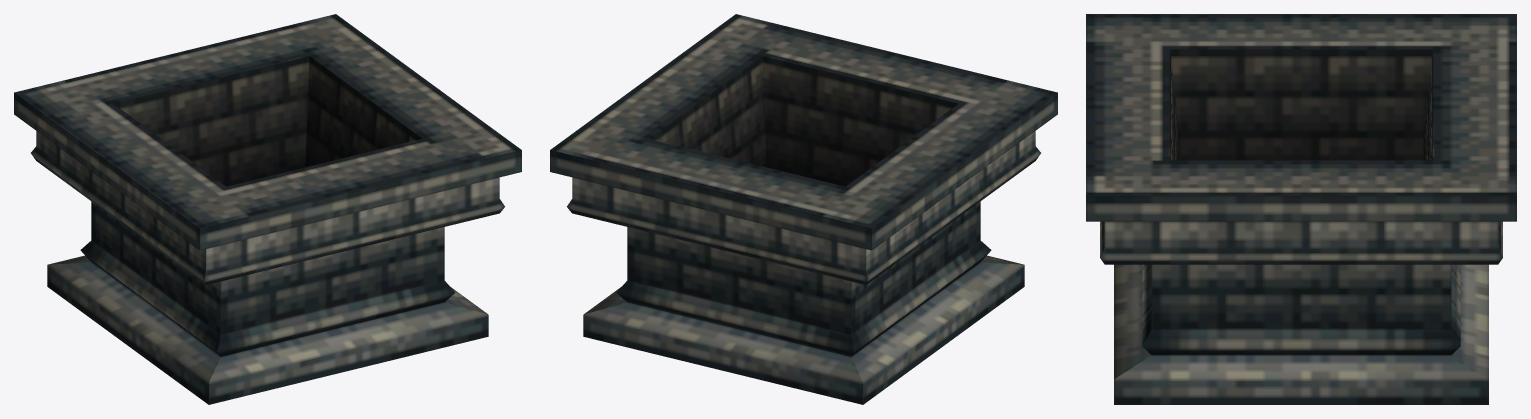
Rendered from EnvMdrMD_Daiseidou_B_Chimney_A.FBX.
3 renders of one model, left to right at view 1: azimuth 30°, elevation 25°; view 2: azimuth 150°, elevation 25°; view 3: azimuth 270°, elevation 25°, orthographic. The views are drawn at different scales.
Parts seen in each view (by area): view 1: EnvMdrMD_Daiseidou_B_Chimney_A; view 2: EnvMdrMD_Daiseidou_B_Chimney_A; view 3: EnvMdrMD_Daiseidou_B_Chimney_A.
Part boxes in pixels (bbox=[...]): EnvMdrMD_Daiseidou_B_Chimney_A: bbox=[14, 14, 521, 404]; EnvMdrMD_Daiseidou_B_Chimney_A: bbox=[550, 14, 1057, 404]; EnvMdrMD_Daiseidou_B_Chimney_A: bbox=[1086, 14, 1516, 404].
Bounding box in the file's own units: 230 × 130 × 230.
1 material, 1 textured.
